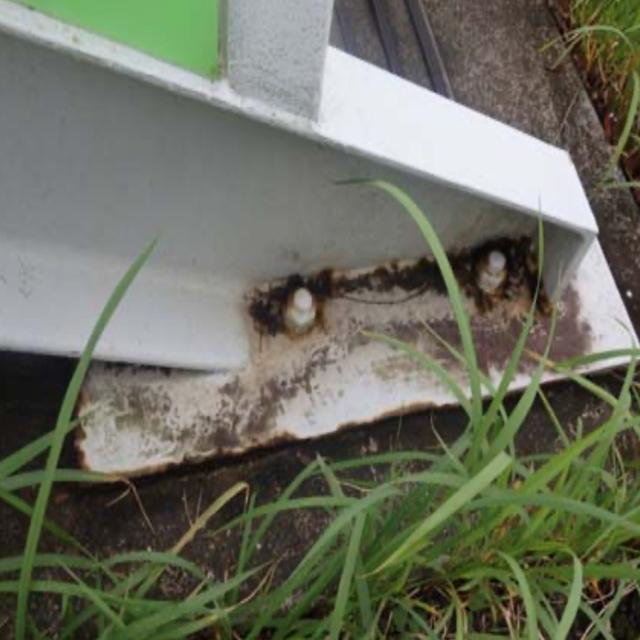corrosion: (206, 213, 577, 380)
